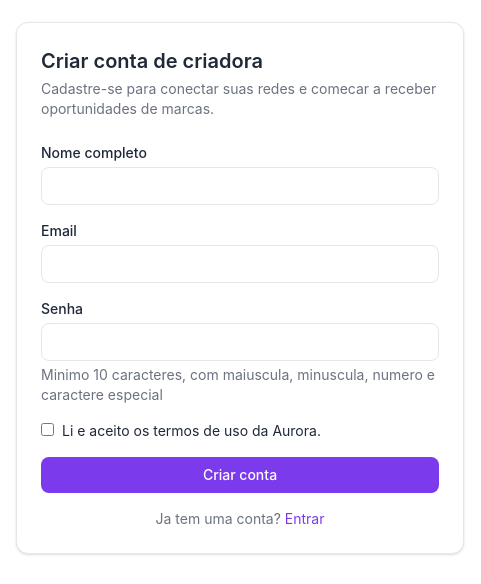
Test: RegisterPage - US-24.1 step 1 (self-registration) › requires terms acceptance before submitting
Type "Duda Oliveira" into the field labelled "Nome completo". click: (240, 186)
box: [41,167,439,205]
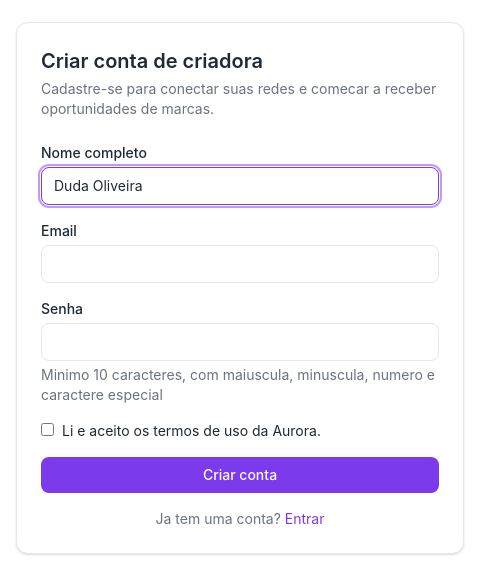
Type "duda@example.com" into the field labelled "Email". click: (240, 264)
box: [41,245,439,283]
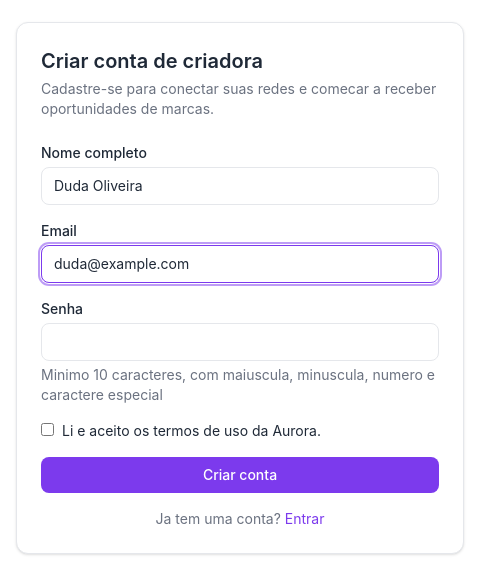
Type "StrongP@ss1" into the password field labelled "Senha". click: (240, 342)
box: [41,323,439,361]
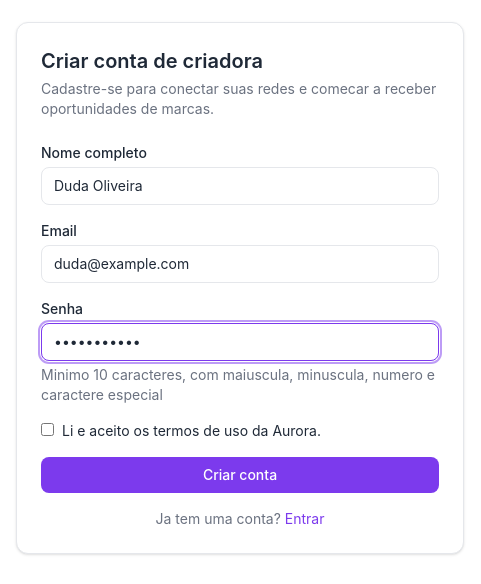
Click the button "Criar conta". click: (240, 475)
box: [41,457,439,493]
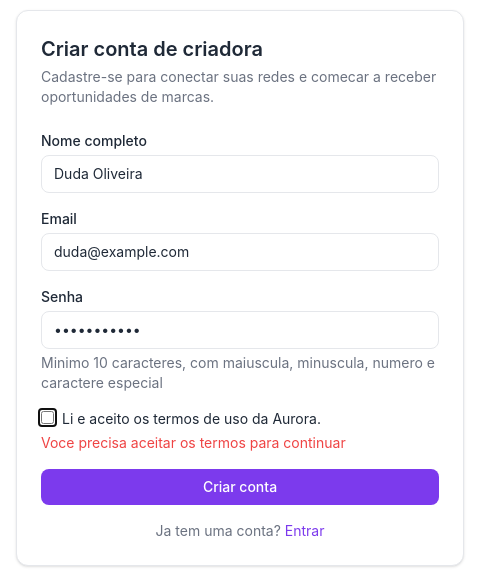
Result: the text "Voce precisa aceitar os termos para continuar" is shown at [41,434,346,451]
